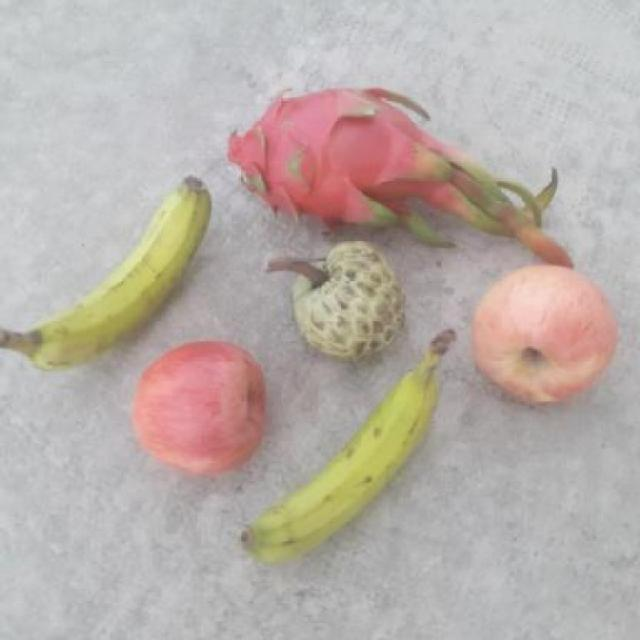apple: (468, 263, 620, 412), (128, 338, 272, 479)
banana: (228, 319, 467, 567), (0, 175, 214, 392)
dragon fruit: (228, 85, 447, 244)
sugar apple: (288, 240, 404, 362)
